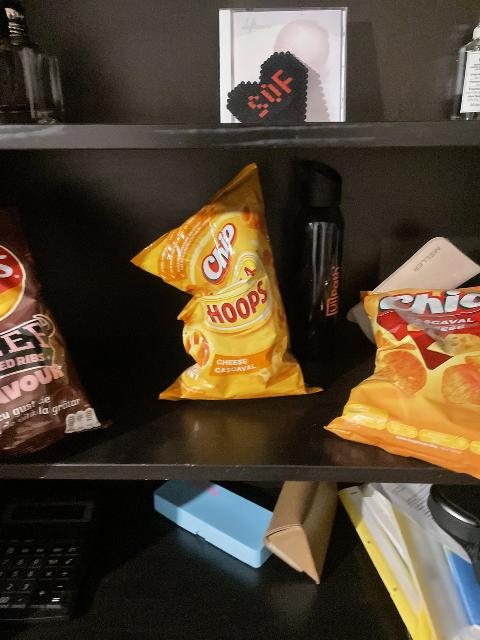Chio Cascaval 125g: (325, 283, 480, 484)
Chio Hula Hoops Cheese 70g: (136, 165, 321, 396)
Lays Beef Grilled Ribs 125g: (1, 210, 116, 454)
